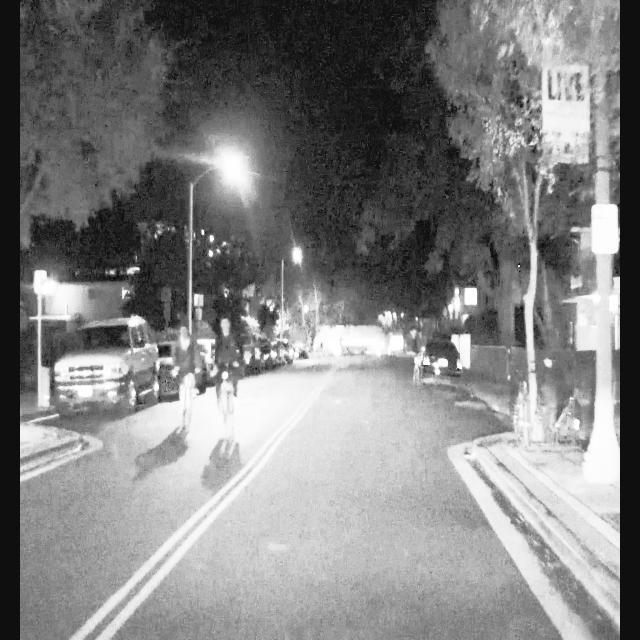Sign: (591, 205, 619, 254)
